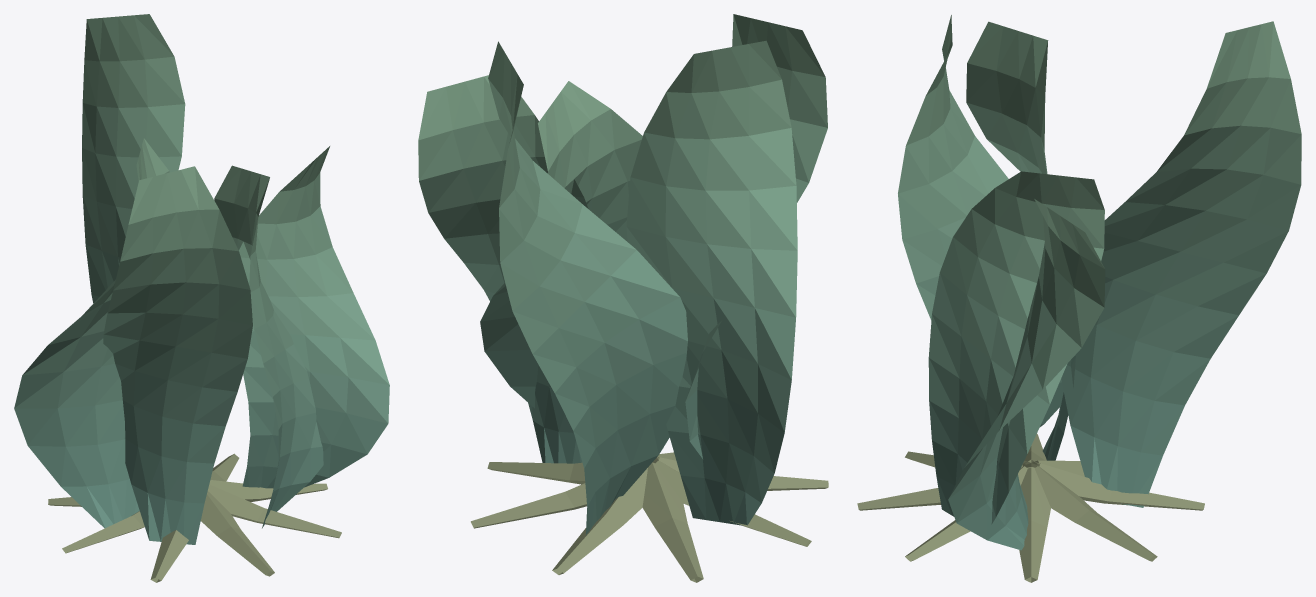
Rendered from RibbonHabitat2.gltf.
3 renders of one model, left to right at view 1: azimuth 30°, elevation 25°; view 2: azimuth 150°, elevation 25°; view 3: azimuth 270°, elevation 25°, orthographic. The views are drawn at different scales.
Parts seen in each view (by area): view 1: RibbonHabitat2; view 2: RibbonHabitat2; view 3: RibbonHabitat2.
Boxes of the visible parts, x1=… form: RibbonHabitat2: x1=14, y1=14, x2=389, y2=582; RibbonHabitat2: x1=418, y1=14, x2=828, y2=582; RibbonHabitat2: x1=857, y1=15, x2=1301, y2=582.
Bounding box in the file's own units: 1.05 × 1.41 × 1.13.
